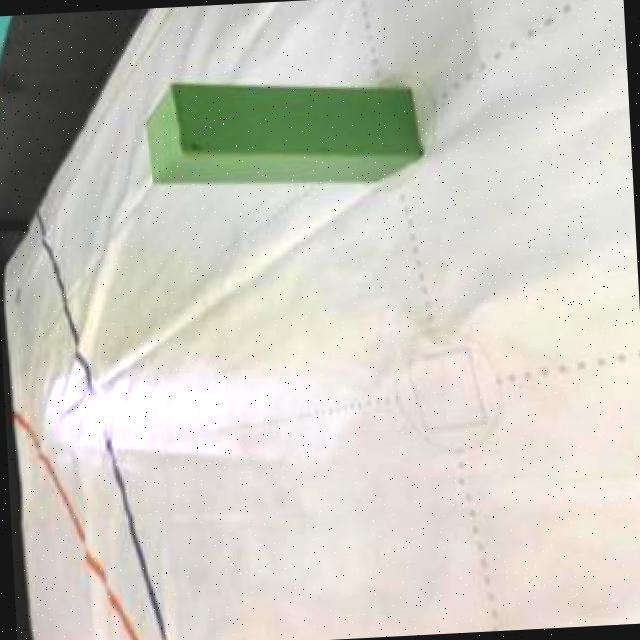greenbox: (138, 65, 422, 198)
